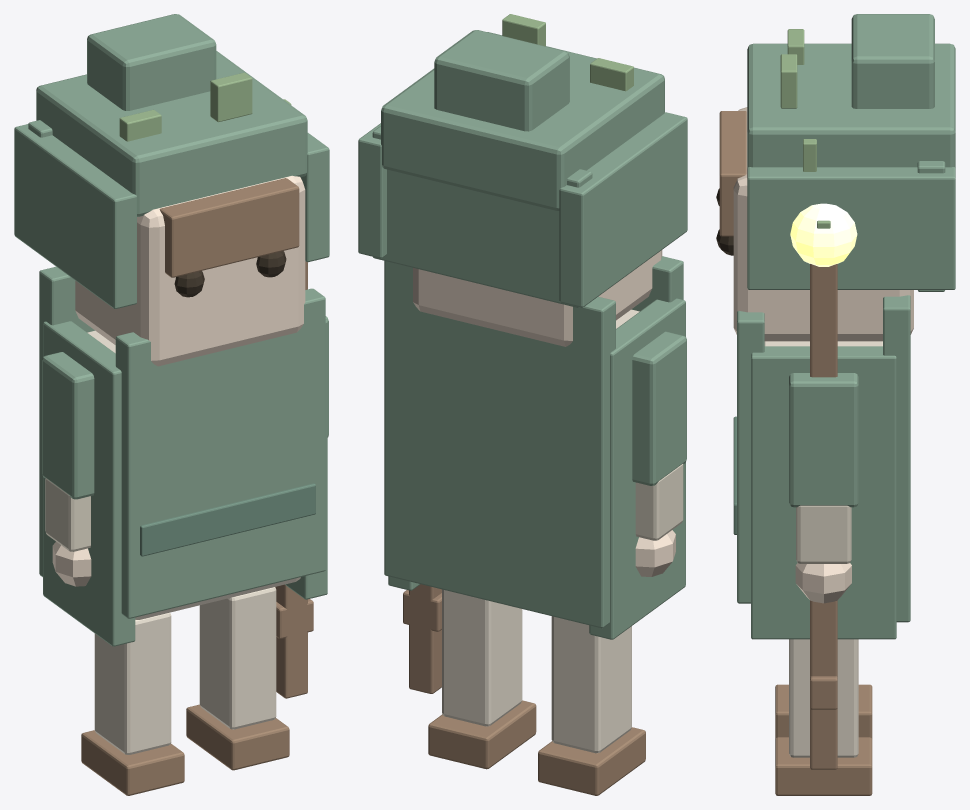
Rendered from druid_v1.glb.
3 renders of one model, left to right at view 1: azimuth 30°, elevation 25°; view 2: azimuth 150°, elevation 25°; view 3: azimuth 270°, elevation 25°, orthographic. The views are drawn at different scales.
Visible parts, largest first — view 1: Cloak_Front, Hood_Top, Head_Mesh, Hood_SideL, Cloak_SideL, LegR_Shaft, Hair_Front, Hood_Peak, LegL_Shaft, ArmL_Sleeve, Cloak_Belt, LegR_Sandal (+13 smaller); view 2: Cloak_Back, Hood_Top, Hood_SideL, Hood_Back, Cloak_SideL, Hood_Peak, LegR_Shaft, LegL_Shaft, Head_Mesh, ArmL_Sleeve, LegR_Sandal, LegL_Sandal (+8 smaller); view 3: Cloak_SideR, Hood_SideR, Hood_Top, ArmR_Sleeve, Hood_Peak, Head_Mesh, Staff_Shaft, Cloak_Back, LegR_Shaft, Cloak_Front, LegR_Sandal, ArmR_Wrap (+10 smaller).
Boxes of the visible parts, x1,y1,x2,y2 form: Cloak_Front: (115, 288, 325, 618); Hood_Top: (36, 51, 307, 216); Head_Mesh: (75, 175, 305, 366); Hood_SideL: (14, 124, 136, 308); Cloak_SideL: (43, 321, 135, 646); LegR_Shaft: (199, 587, 276, 729); Hair_Front: (159, 178, 299, 277); Hood_Peak: (87, 14, 216, 110); LegL_Shaft: (94, 612, 171, 754); ArmL_Sleeve: (42, 352, 94, 499); Cloak_Belt: (140, 483, 315, 556); LegR_Sandal: (186, 704, 289, 770); Cloak_Back: (384, 261, 615, 628); Hood_Top: (381, 32, 664, 210); Hood_SideL: (559, 112, 687, 307); Hood_Back: (372, 126, 592, 307); Cloak_SideL: (589, 298, 685, 639); Hood_Peak: (434, 30, 569, 131); LegR_Shaft: (442, 589, 522, 726); LegL_Shaft: (551, 616, 631, 753); Head_Mesh: (413, 250, 662, 346); ArmL_Sleeve: (632, 331, 686, 485); LegR_Sandal: (428, 700, 536, 769); LegL_Sandal: (538, 727, 645, 795); Cloak_SideR: (751, 346, 896, 639); Hood_SideR: (747, 167, 955, 289); Hood_Top: (747, 43, 955, 168); ArmR_Sleeve: (789, 373, 858, 507); Hood_Peak: (851, 14, 934, 108); Head_Mesh: (733, 107, 913, 341); Staff_Shaft: (810, 264, 837, 769); Cloak_Back: (883, 295, 910, 622); LegR_Shaft: (789, 639, 858, 757); Cloak_Front: (737, 311, 764, 603); LegR_Sandal: (775, 737, 872, 795); ArmR_Wrap: (796, 505, 851, 563).
Size of the model in its own units: 0.4504 by 1.15 by 0.345.
